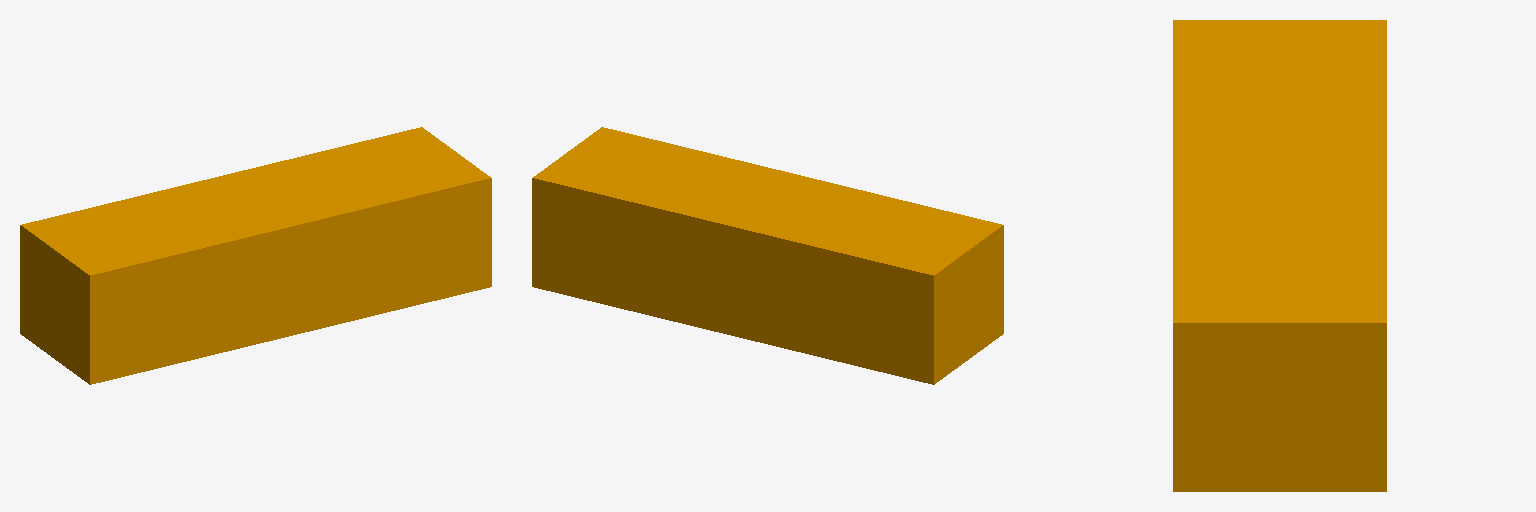
The robot description file, URDF, robot "model.urdf":
<?xml version="1.0" ?>
        <robot name="model.urdf">
        <link name="baseLink">
            <contact>
                <lateral_friction value="0.8"/>
                <rolling_friction value="0.001"/>
                <contact_cfm value="0.0"/>
                <contact_erp value="1.0"/>
            </contact>
            <inertial>
                <!-- <mass value="0.104"/> -->
                <!-- <inertia ixx="0.001" ixy="0" ixz="0" iyy="0.001" iyz="0" izz="0.001"/> -->
                <density value="400"/>
            </inertial>
            <visual>
            <geometry>
                <mesh filename="cuboid.obj" scale="1 1 1"/>
            </geometry>
            <!-- The following material makes the object white in Isaac Gym, so we comment it out.
            <material name="white"> <color rgba="1. 1. 1. 1."/> </material>
            -->
            </visual>
            <collision>
            <geometry>
                <mesh filename="cuboid.obj" scale="1 1 1"/>
            </geometry>
            </collision>
        </link>
        </robot>

--- What the picture shows (computed from the rendered views, not written in the file) ---
The picture shows the robot from 3 angles, left to right: view 1: azimuth 30°, elevation 25°; view 2: azimuth 150°, elevation 25°; view 3: azimuth 270°, elevation 25°; orthographic projection.
Model model.urdf with 1 links and 0 joints (none), rooted at baseLink, posed all joints at 0.
Links seen in each view (by area): view 1: baseLink; view 2: baseLink; view 3: baseLink.
Link boxes in pixels (x1,y1,x2,y2): baseLink: (20,127,491,384); baseLink: (532,127,1003,384); baseLink: (1173,20,1386,491).
Size in the robot's own frame: 0.125 by 0.0375 by 0.0325 metres.
1 mesh visuals loaded from 1 distinct referenced files (1 OBJ).
